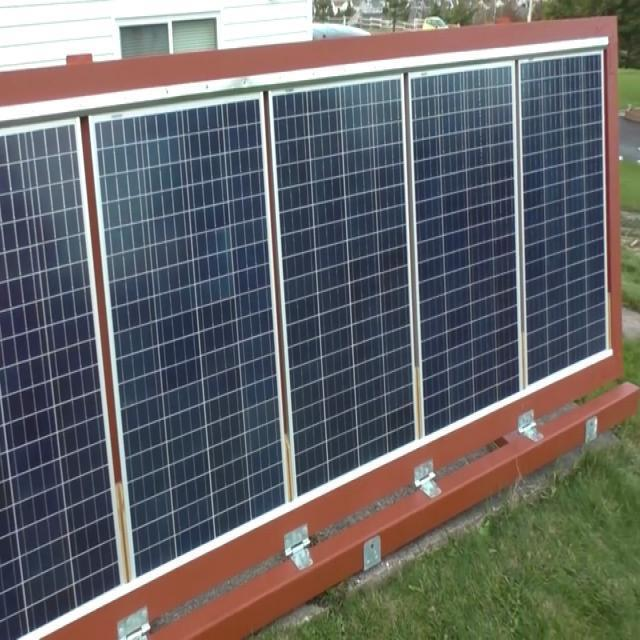Normal Solar Panel: (0, 47, 610, 640)
